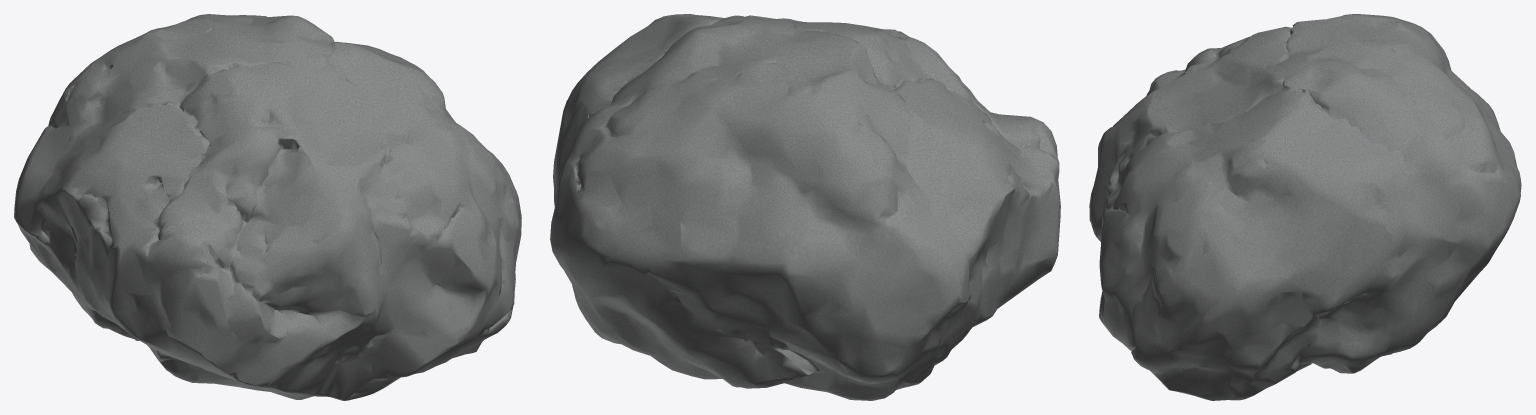
File: rock.glb
3 renders of one model, left to right at view 1: azimuth 30°, elevation 25°; view 2: azimuth 150°, elevation 25°; view 3: azimuth 270°, elevation 25°, orthographic. The views are drawn at different scales.
Bounding box in the file's own units: 1.9 × 1.36 × 1.8.
Materials: 1 (1 with a texture image).
